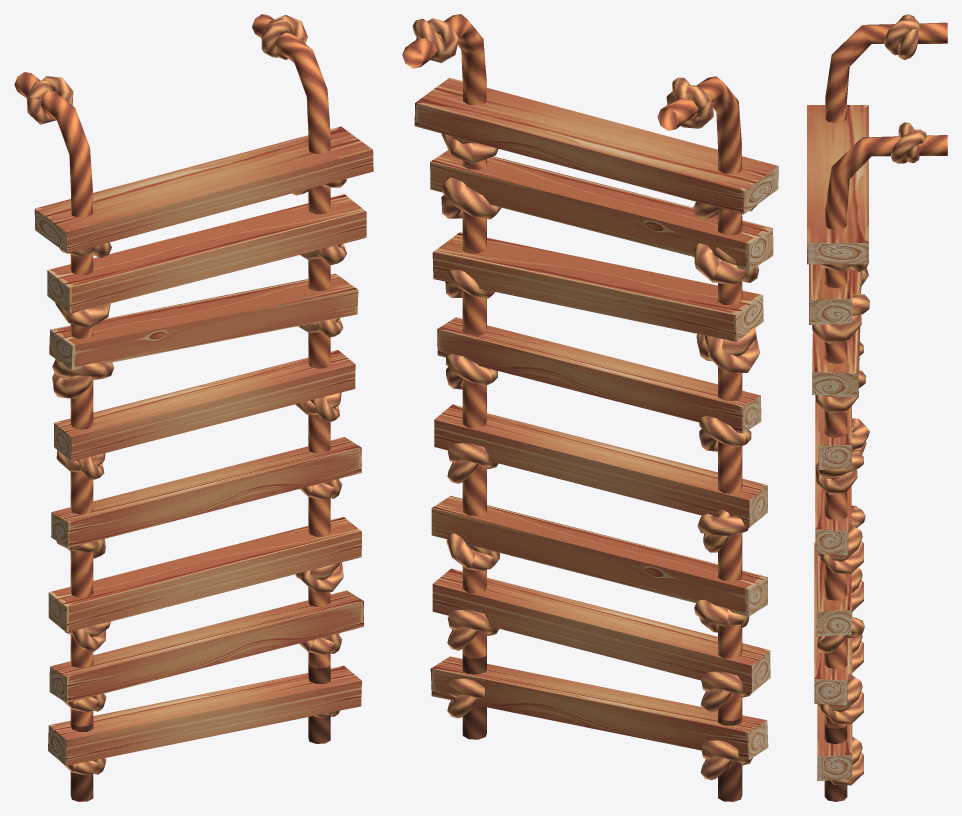
File: SE_Ladder_01.fbx
3 views of the same model, side by side, from view 1: azimuth 30°, elevation 25°; view 2: azimuth 150°, elevation 25°; view 3: azimuth 270°, elevation 25° (orthographic). The views are drawn at different scales.
Visible parts, largest first — view 1: SE_Ladder_01; view 2: SE_Ladder_01; view 3: SE_Ladder_01.
Boxes of the visible parts, bbox=[...] form: SE_Ladder_01: bbox=[14, 14, 373, 801]; SE_Ladder_01: bbox=[402, 14, 778, 801]; SE_Ladder_01: bbox=[807, 14, 947, 801].
Bounding box in the file's own units: 2.14 × 4.63 × 0.8783.
